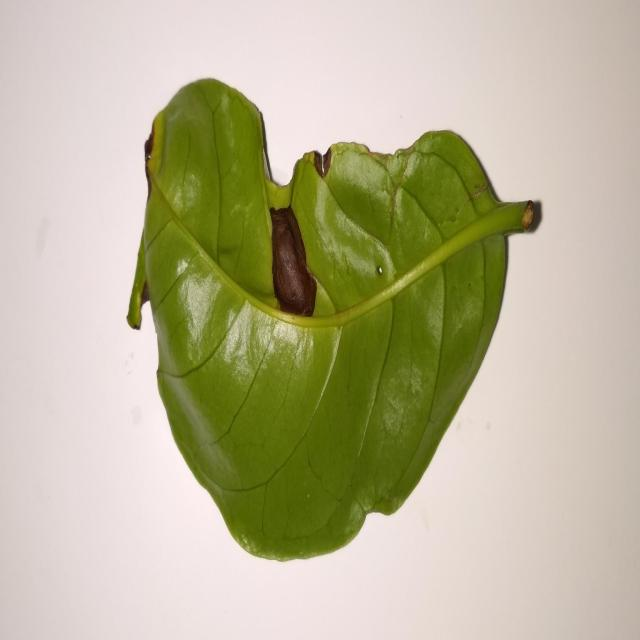phoma: (269, 205, 317, 317)
